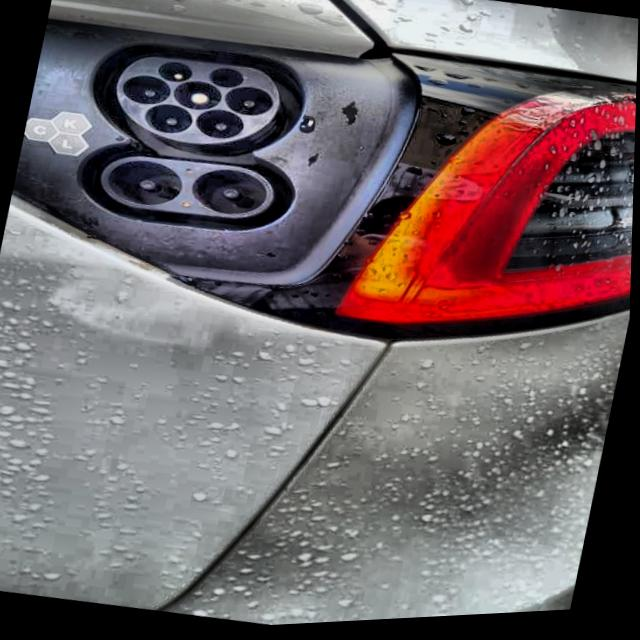inlet: (117, 58, 280, 146)
inlet-above-left: (158, 64, 193, 83)
inlet-above-right: (209, 70, 244, 90)
inlet-below-left: (145, 106, 193, 135)
inlet-below-right: (196, 112, 244, 141)
inlet-center: (174, 83, 221, 111)
inlet-center-left: (123, 77, 171, 106)
inlet-center-right: (225, 89, 274, 118)
